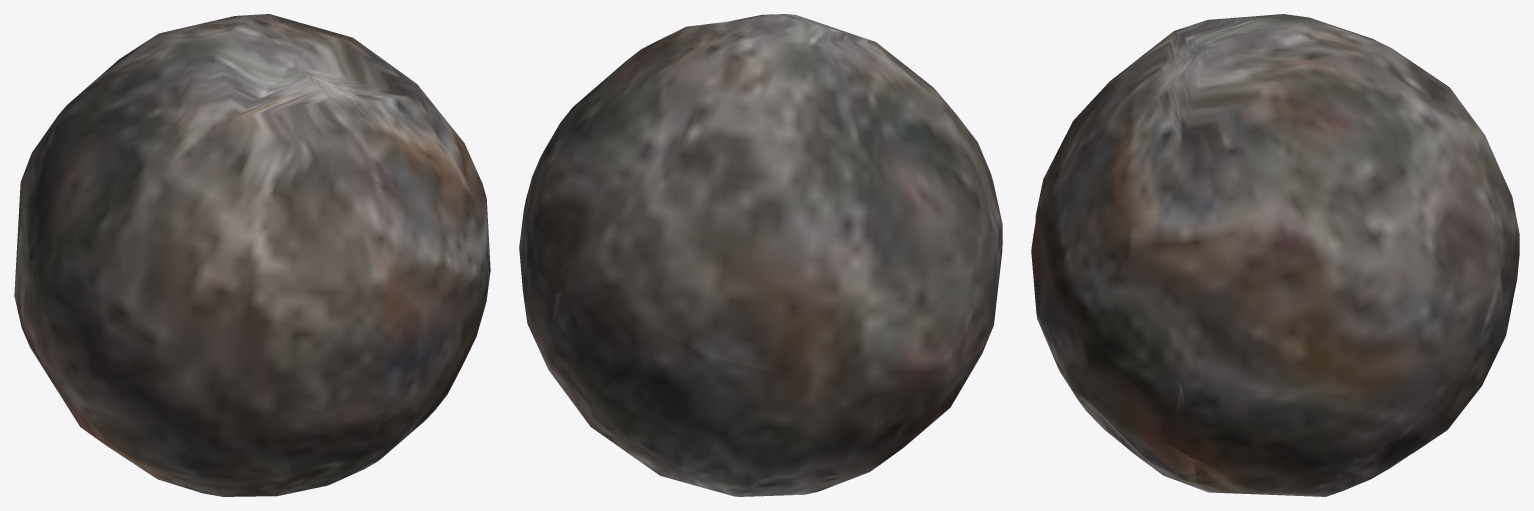
File: planet_10-far.glb
The picture shows the model from 3 angles, left to right: view 1: azimuth 30°, elevation 25°; view 2: azimuth 150°, elevation 25°; view 3: azimuth 270°, elevation 25°; orthographic projection.
Visible parts, largest first — view 1: Mesh_0.001; view 2: Mesh_0.001; view 3: Mesh_0.001.
Boxes of the visible parts, x1,y1,x2,y2 form: Mesh_0.001: [14, 14, 490, 496]; Mesh_0.001: [519, 14, 1002, 496]; Mesh_0.001: [1031, 14, 1519, 496].
Size of the model in its own units: 1.89 by 1.9 by 1.89.
1 material, 1 textured.
